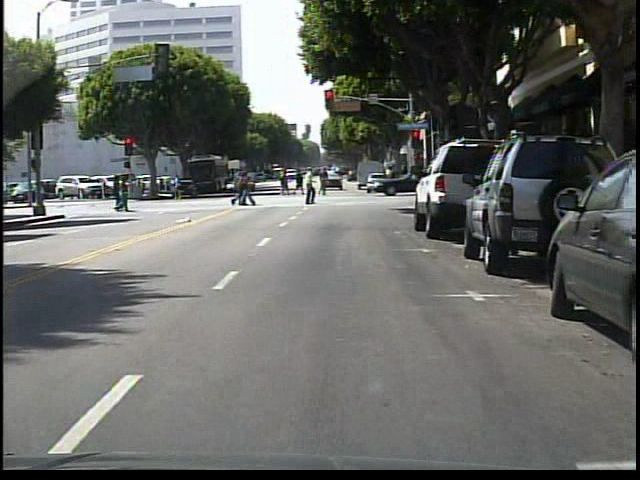person: (299, 165, 321, 208), (170, 169, 189, 199), (315, 167, 333, 196)
